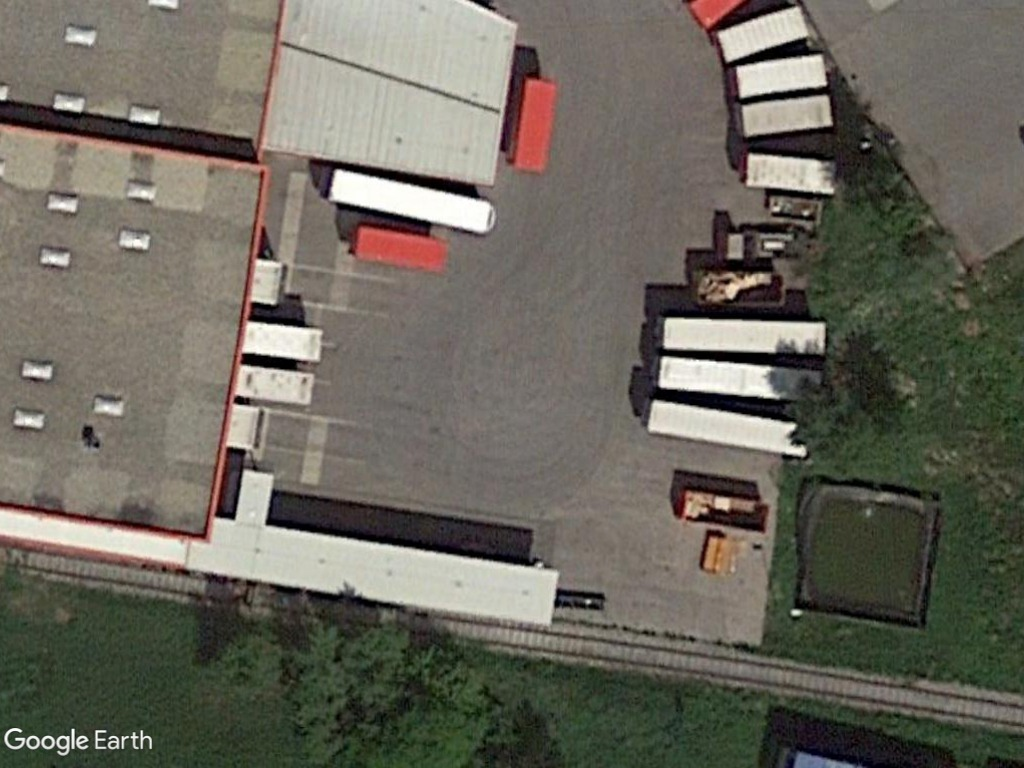longvehicle: (325, 166, 500, 235), (638, 395, 797, 454), (653, 313, 835, 362), (725, 48, 833, 107)
